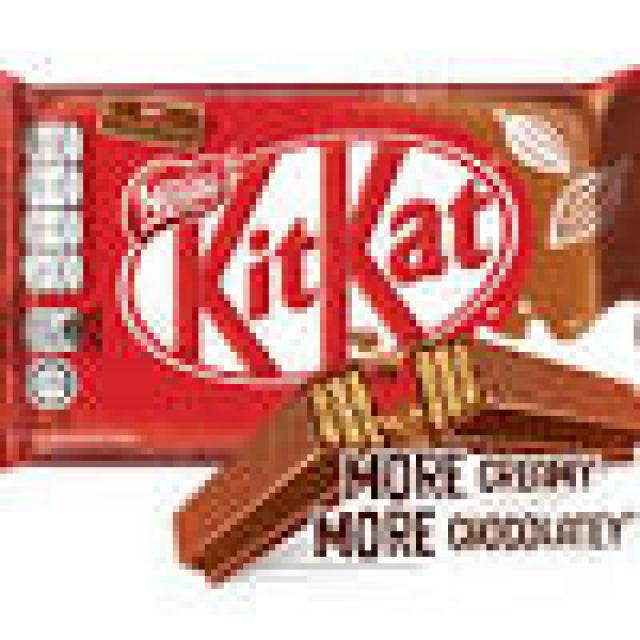kitkat: (2, 70, 640, 483)
